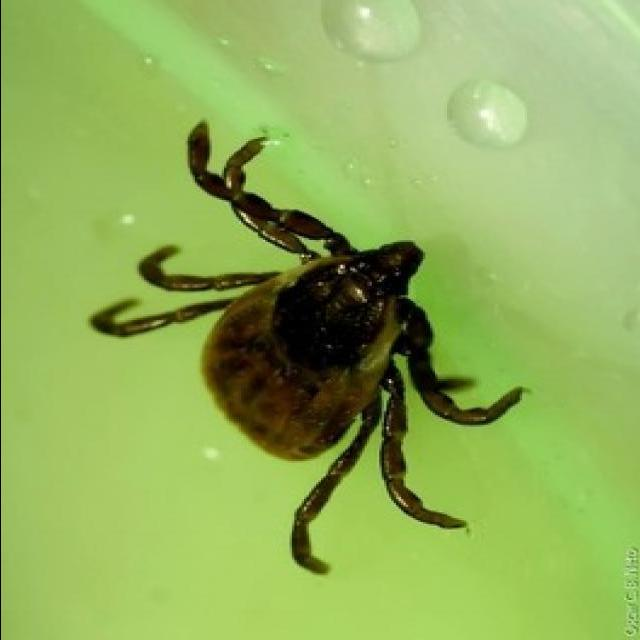Rhipicephalus Sanguineus-F: (87, 120, 528, 575)
